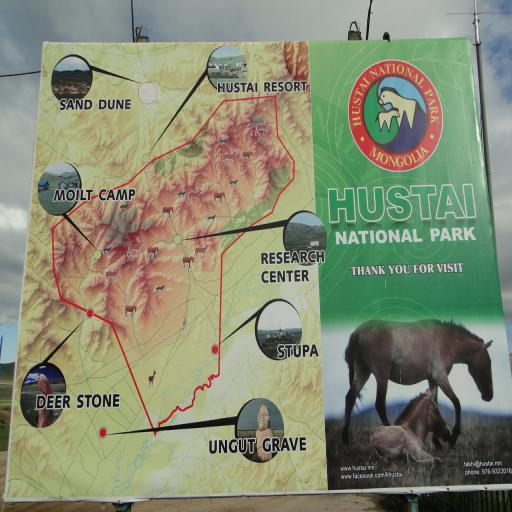Horse: (343, 316, 494, 449), (368, 386, 454, 468)
